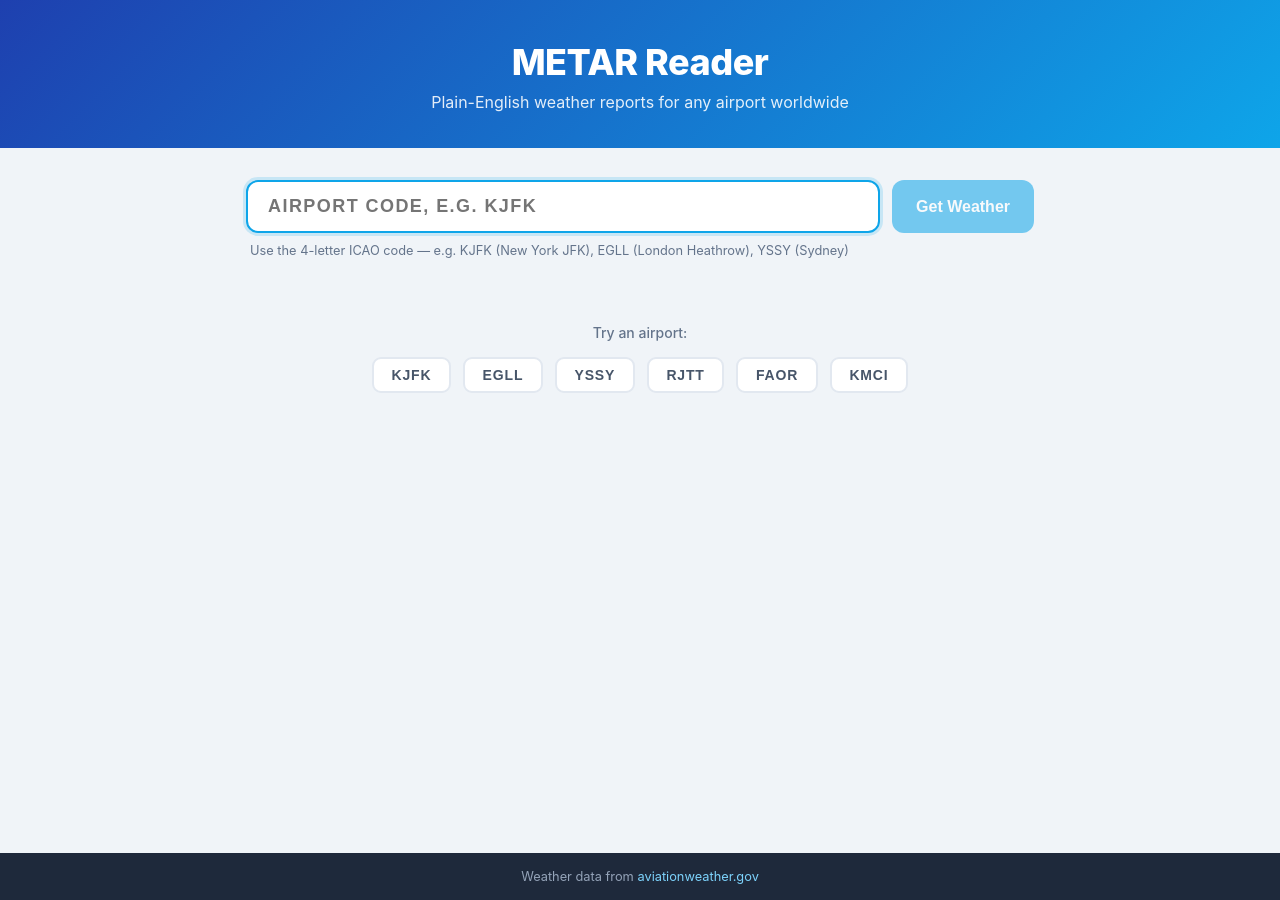
App › displays error message on API error response
The image size is (1280, 900).
Type "XXXX" into the field with placeholder "Airport code, e.g. KJFK". click: [563, 206]
box: [246, 180, 880, 233]
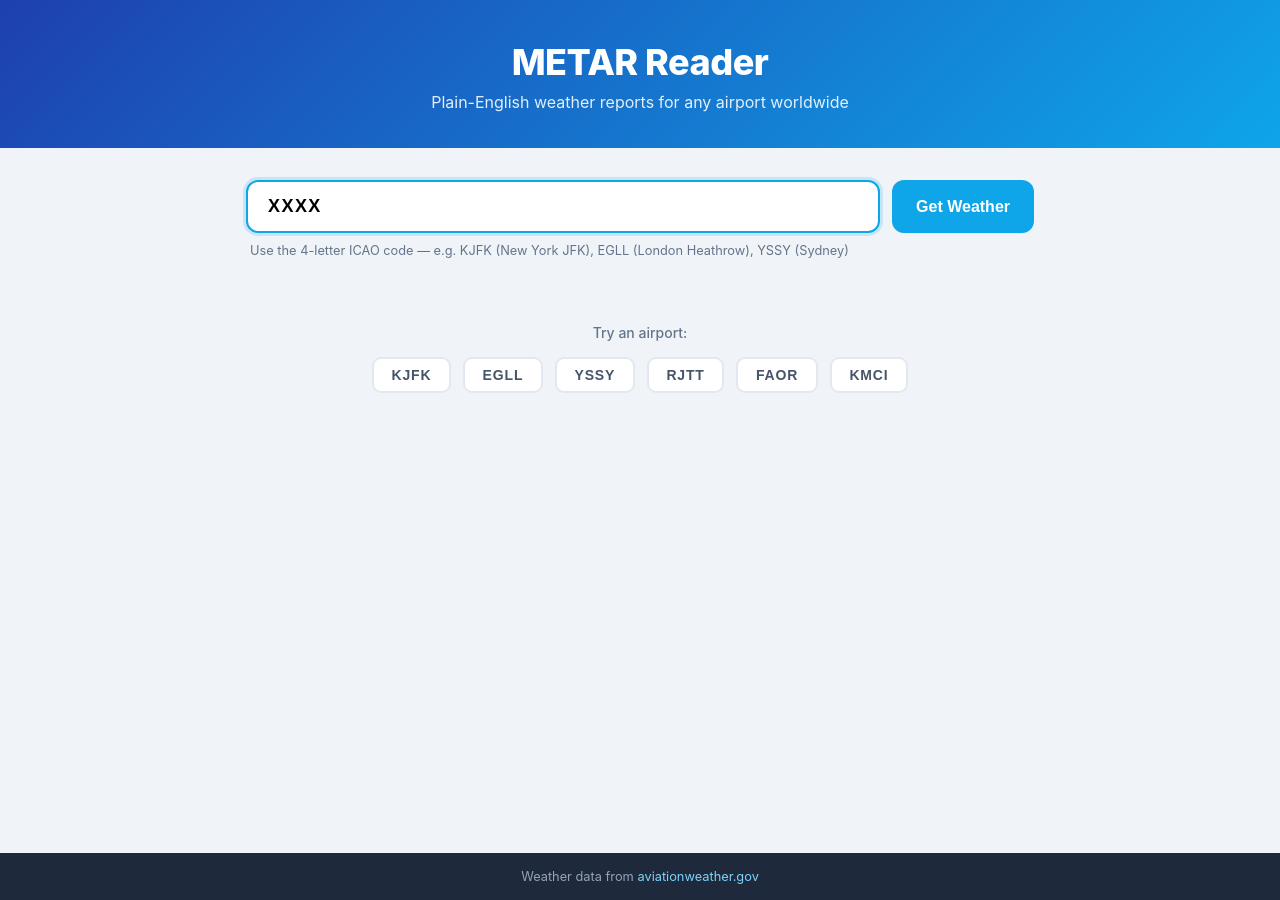
Click the button "Get Weather". click: [963, 206]
box: [892, 180, 1034, 233]
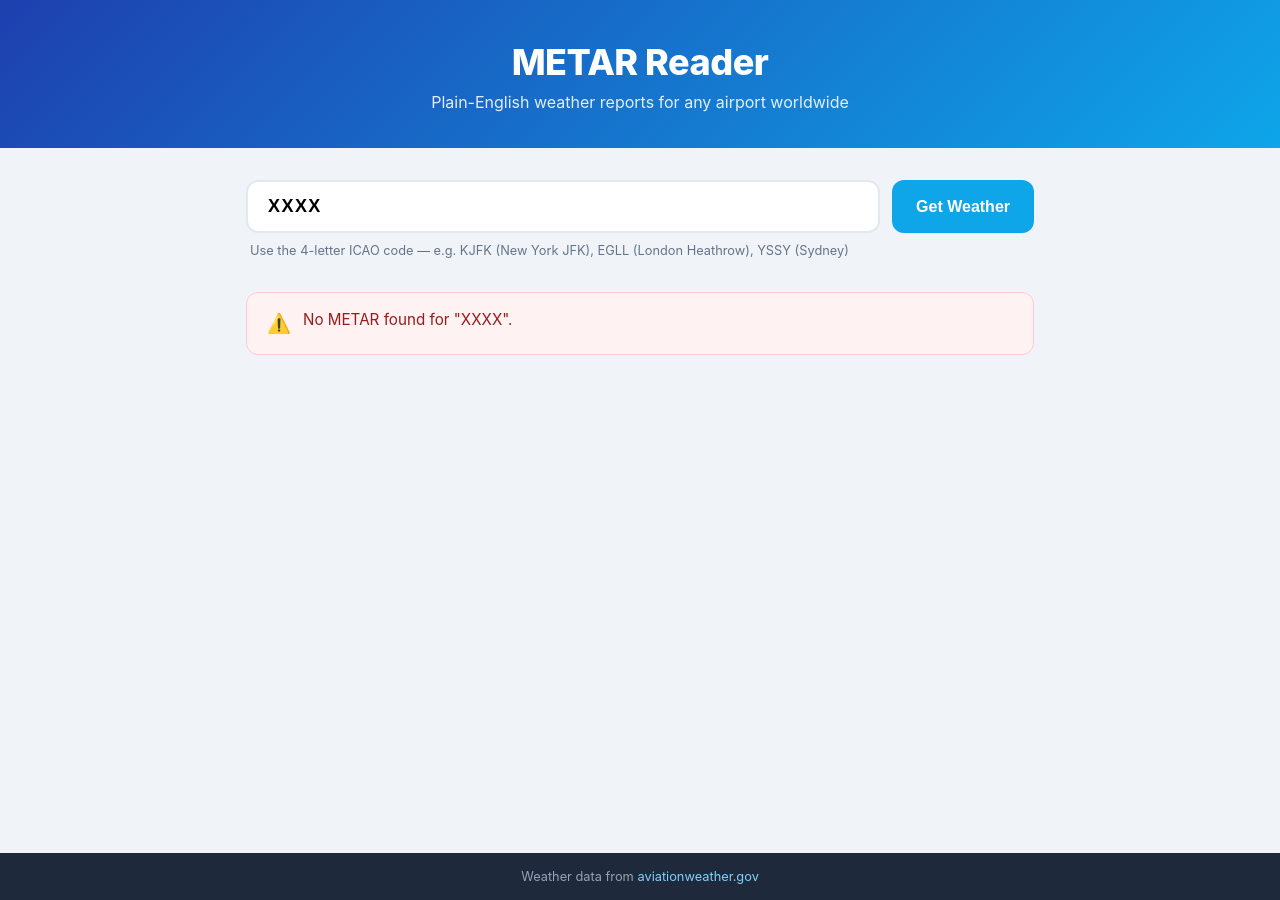
Check: the text "No METAR found for \"XXXX\"." is shown, box [303, 309, 512, 332]
